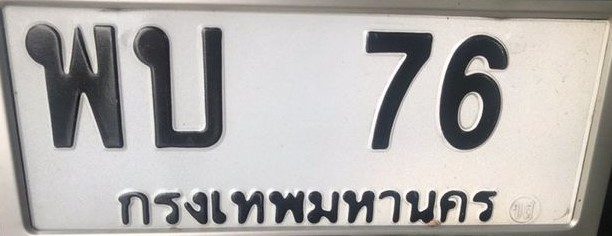txt21: (131, 23, 226, 152)
txt25: (22, 20, 128, 151)
